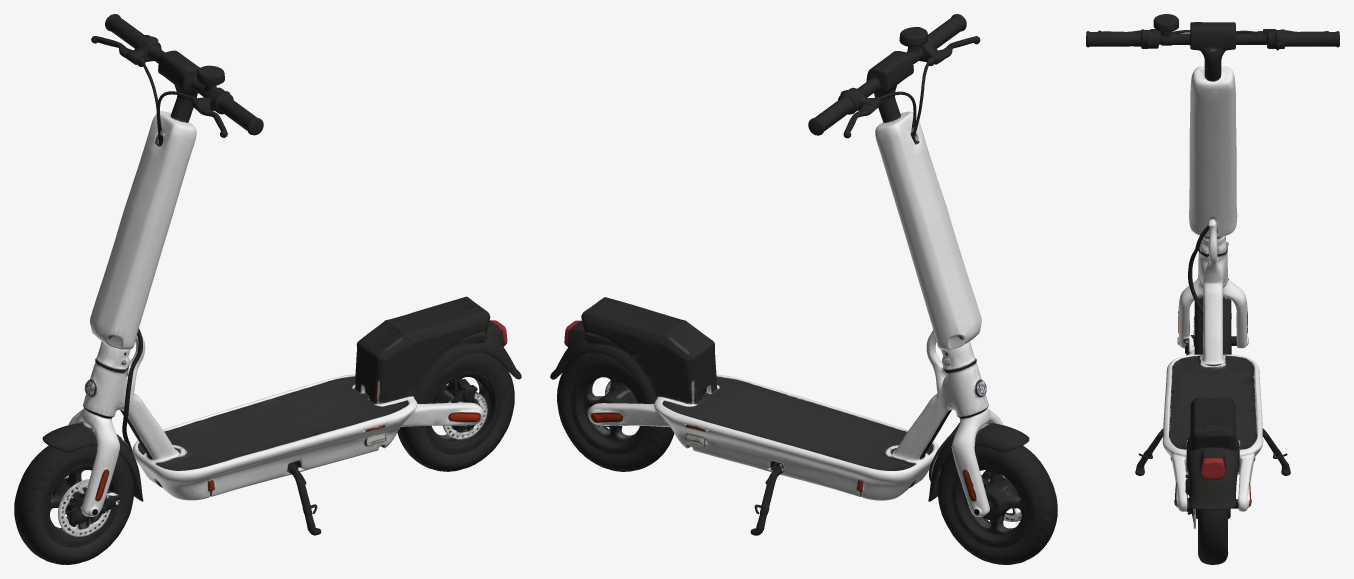
Rendered from 048_scooter_electric_courier.glb.
3 renders of one model, left to right at view 1: azimuth 30°, elevation 25°; view 2: azimuth 150°, elevation 25°; view 3: azimuth 270°, elevation 25°, orthographic. The views are drawn at different scales.
Parts seen in each view (by area): view 1: geometry_0; view 2: geometry_0; view 3: geometry_0.
Boxes of the visible parts, x1,y1,x2,y2 form: geometry_0: (14, 14, 521, 564); geometry_0: (550, 14, 1057, 564); geometry_0: (1086, 14, 1339, 564).
Bounding box in the file's own units: 1.8 × 1.68 × 0.9062.
Materials: 1 (1 with a texture image).
